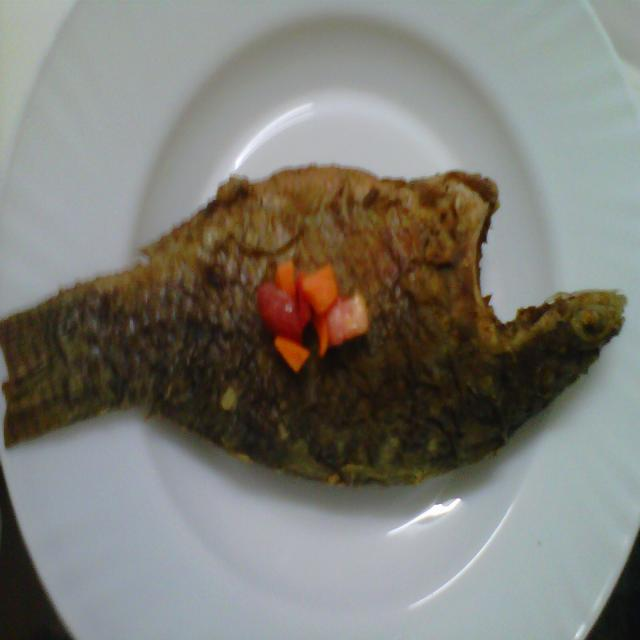Peixe: (0, 161, 628, 488)
